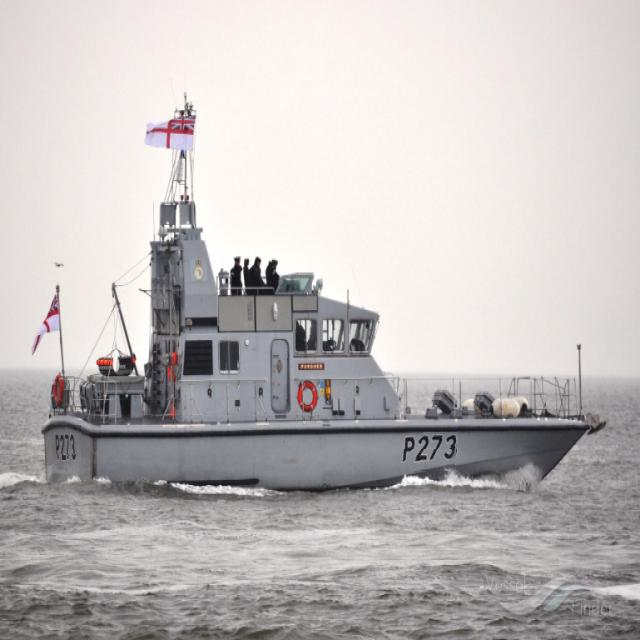OCR: (400, 432, 458, 472), (47, 425, 81, 466)
